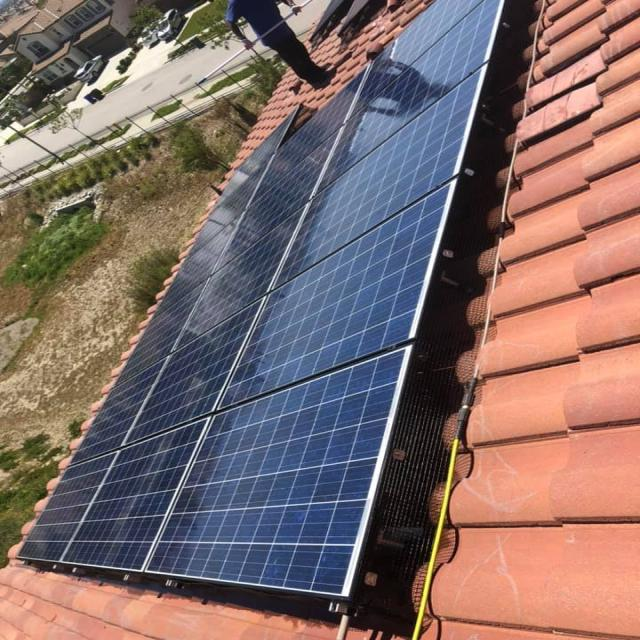clean-solar-panel: (22, 0, 500, 596)
